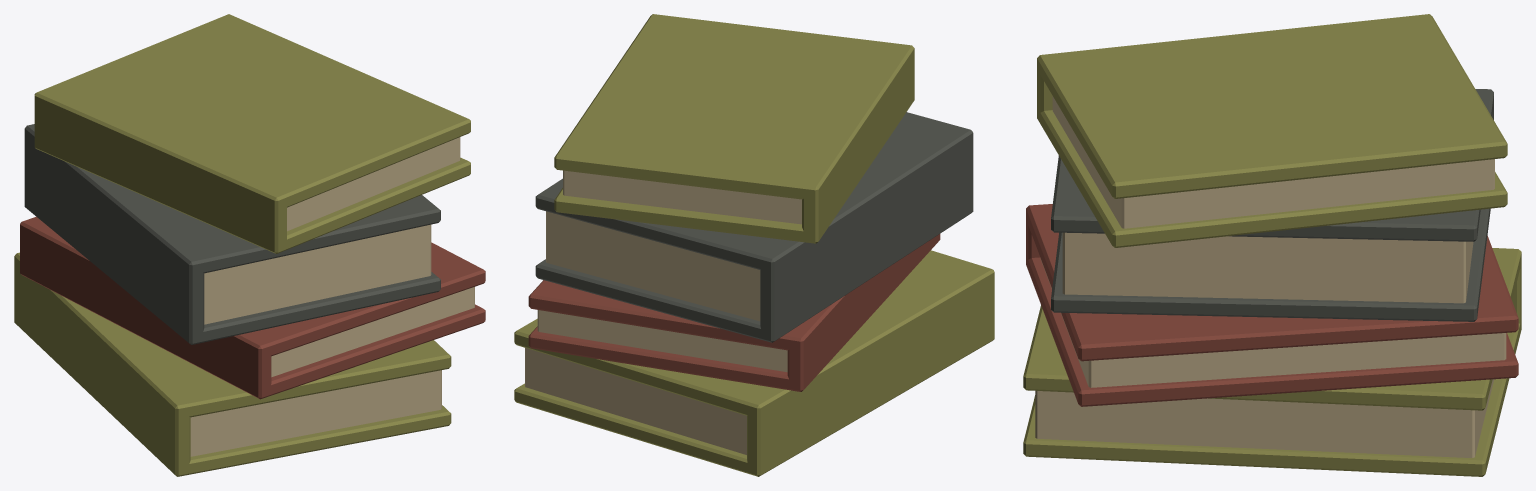
File: Library_BookStack_A.fbx
The picture shows the model from 3 angles, left to right: view 1: azimuth 30°, elevation 25°; view 2: azimuth 150°, elevation 25°; view 3: azimuth 270°, elevation 25°; orthographic projection. The views are drawn at different scales.
Visible parts, largest first — view 1: Upper_cover.011, Spine.010, Spine.011, Spine.008, Pages.010, Spine.009, Pages.008, Upper_cover.008, Upper_cover.010, Upper_cover.009, Lower_cover.008, Lower_cover.010 (+4 smaller); view 2: Upper_cover.011, Spine.010, Spine.008, Pages.010, Upper_cover.008, Pages.008, Upper_cover.010, Spine.011, Pages.011, Spine.009, Pages.009, Upper_cover.009 (+4 smaller); view 3: Upper_cover.011, Pages.010, Pages.008, Upper_cover.009, Pages.011, Pages.009, Lower_cover.009, Lower_cover.008, Lower_cover.011, Lower_cover.010, Upper_cover.008, Upper_cover.010 (+2 smaller).
Boxes of the visible parts, left/top/right/bottom form: Upper_cover.011: left=37, top=14, right=470, bottom=209; Spine.010: left=24, top=124, right=204, bottom=344; Spine.011: left=34, top=92, right=286, bottom=253; Spine.008: left=14, top=252, right=190, bottom=476; Pages.010: left=204, top=224, right=431, bottom=324; Spine.009: left=20, top=221, right=271, bottom=399; Pages.008: left=190, top=370, right=441, bottom=456; Upper_cover.008: left=65, top=297, right=451, bottom=417; Upper_cover.010: left=28, top=125, right=440, bottom=273; Upper_cover.009: left=23, top=216, right=485, bottom=358; Lower_cover.008: left=178, top=405, right=451, bottom=476; Lower_cover.010: left=192, top=272, right=440, bottom=344; Upper_cover.011: left=554, top=14, right=910, bottom=199; Spine.010: left=760, top=127, right=973, bottom=342; Spine.008: left=747, top=267, right=994, bottom=476; Pages.010: left=546, top=211, right=760, bottom=321; Upper_cover.008: left=514, top=250, right=991, bottom=416; Pages.008: left=525, top=348, right=746, bottom=454; Upper_cover.010: left=535, top=112, right=960, bottom=270; Spine.011: left=802, top=45, right=914, bottom=243; Pages.011: left=563, top=170, right=801, bottom=224; Spine.009: left=787, top=234, right=940, bottom=391; Pages.009: left=537, top=310, right=787, bottom=372; Upper_cover.009: left=528, top=280, right=823, bottom=350; Upper_cover.011: left=1037, top=14, right=1507, bottom=198; Pages.010: left=1062, top=232, right=1473, bottom=303; Pages.008: left=1035, top=379, right=1494, bottom=457; Upper_cover.009: left=1026, top=204, right=1518, bottom=361; Pages.011: left=1052, top=96, right=1494, bottom=228; Pages.009: left=1040, top=258, right=1506, bottom=387; Lower_cover.009: left=1026, top=255, right=1518, bottom=406; Lower_cover.008: left=1023, top=319, right=1521, bottom=476; Lower_cover.011: left=1037, top=107, right=1507, bottom=247; Lower_cover.010: left=1051, top=208, right=1490, bottom=321; Upper_cover.008: left=1023, top=248, right=1521, bottom=410; Upper_cover.010: left=1051, top=89, right=1493, bottom=241.
Bounding box in the file's own units: 0.5613 × 0.445 × 0.654.
